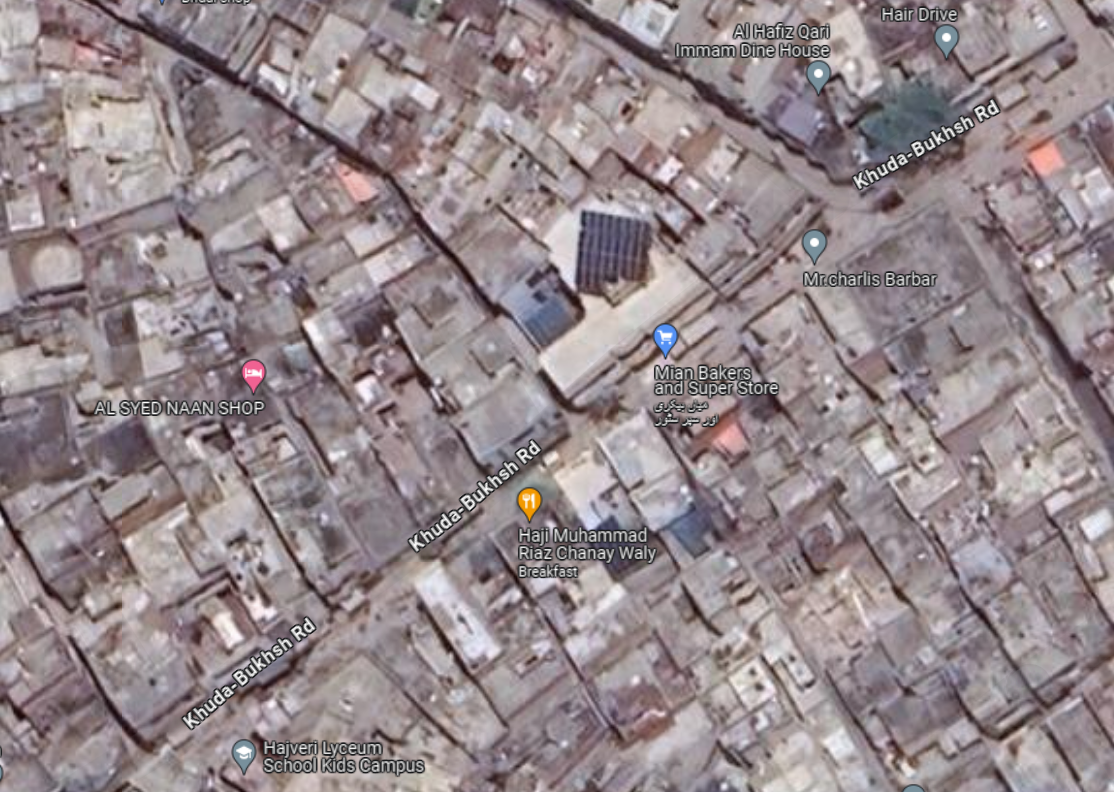solar-panel: (575, 211, 658, 298), (597, 516, 626, 529)
